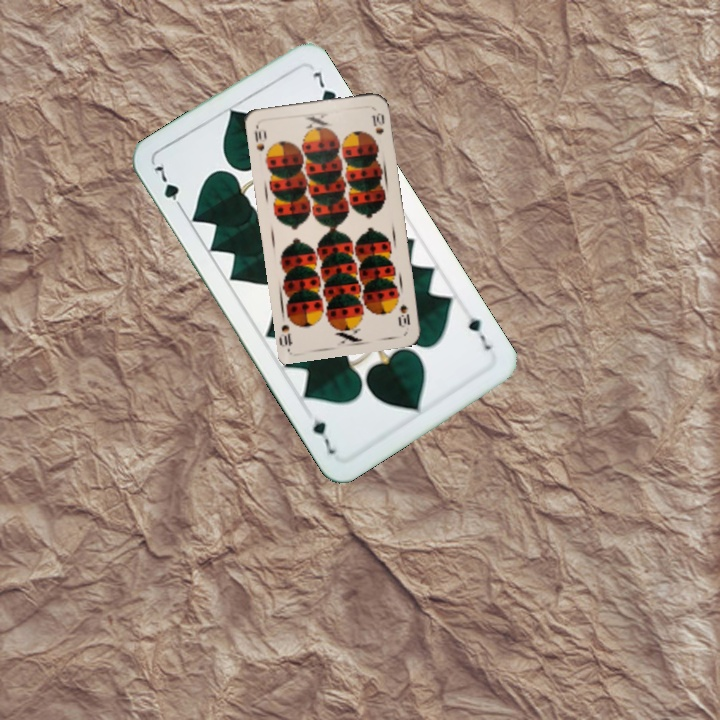G7: (150, 159, 187, 214), (464, 312, 494, 353)
S10: (395, 299, 413, 330), (250, 127, 267, 153)
